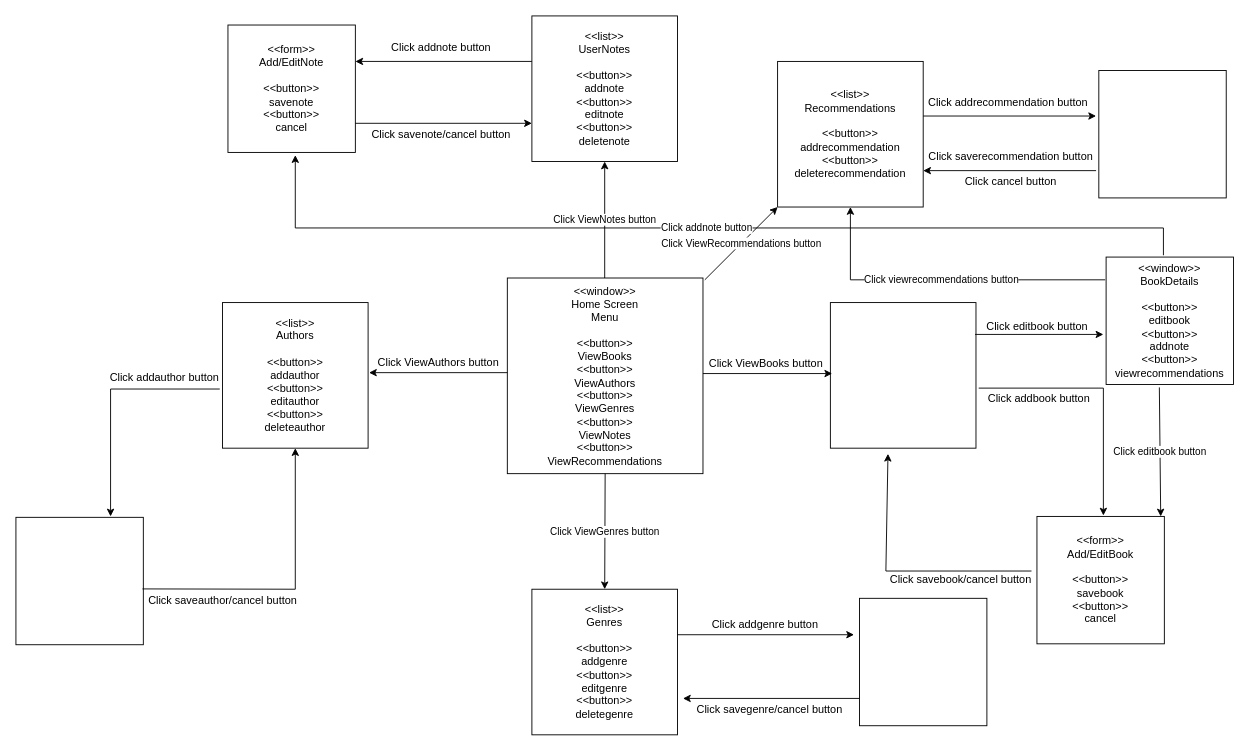
Some shapes in this 1249 by 751 pixel diagram are drawn without their labels. The centre of each missing label's shape, as x and y in pixels:
"<<form>> Add/EditAuthor <<button>> saveauthor <<button>> cancel" goes at (x=79, y=580).
"<<form>> Add/EditGenre <<button>> savegenre <<button>> cancel" goes at (x=923, y=661).
"<<form>> AddRecomendation <<button>> saverecommedation <<button>> cancel" goes at (x=1162, y=134).
"<<list>> Books <<button>> addbook <<button>> editbook <<button>> deletebook" goes at (x=902, y=375).
